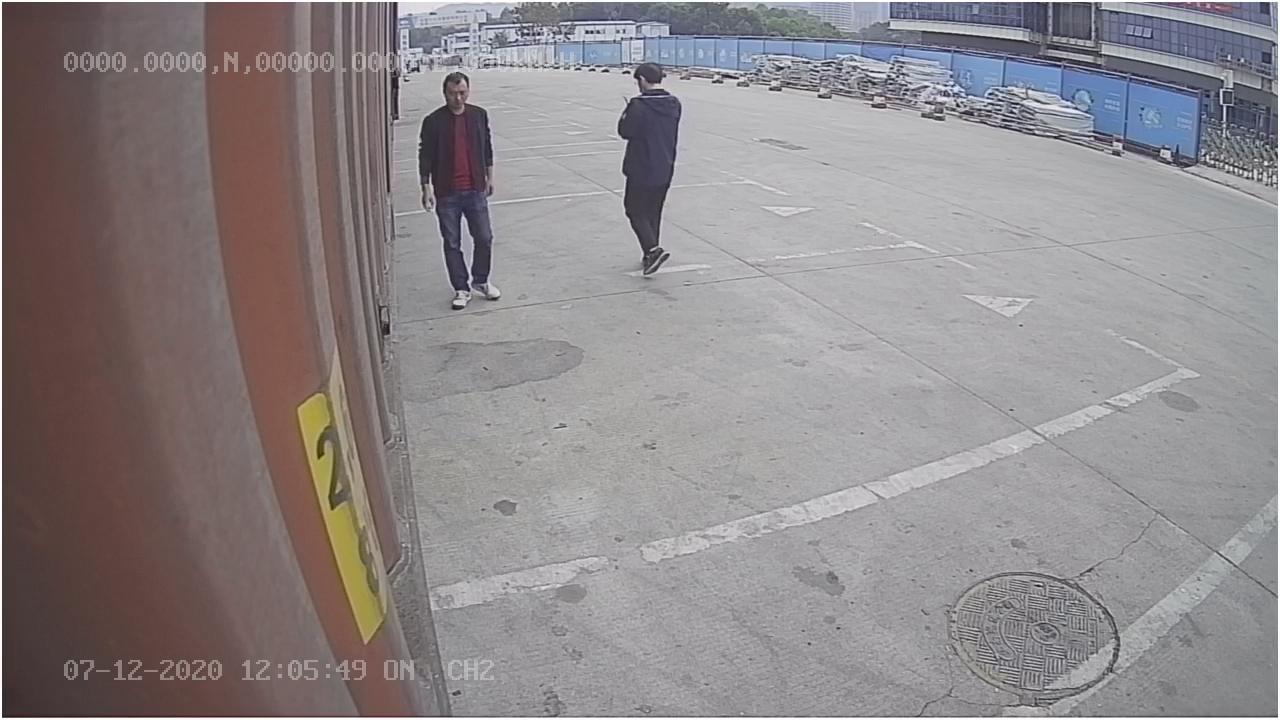person: (415, 67, 506, 309), (608, 60, 680, 273)
